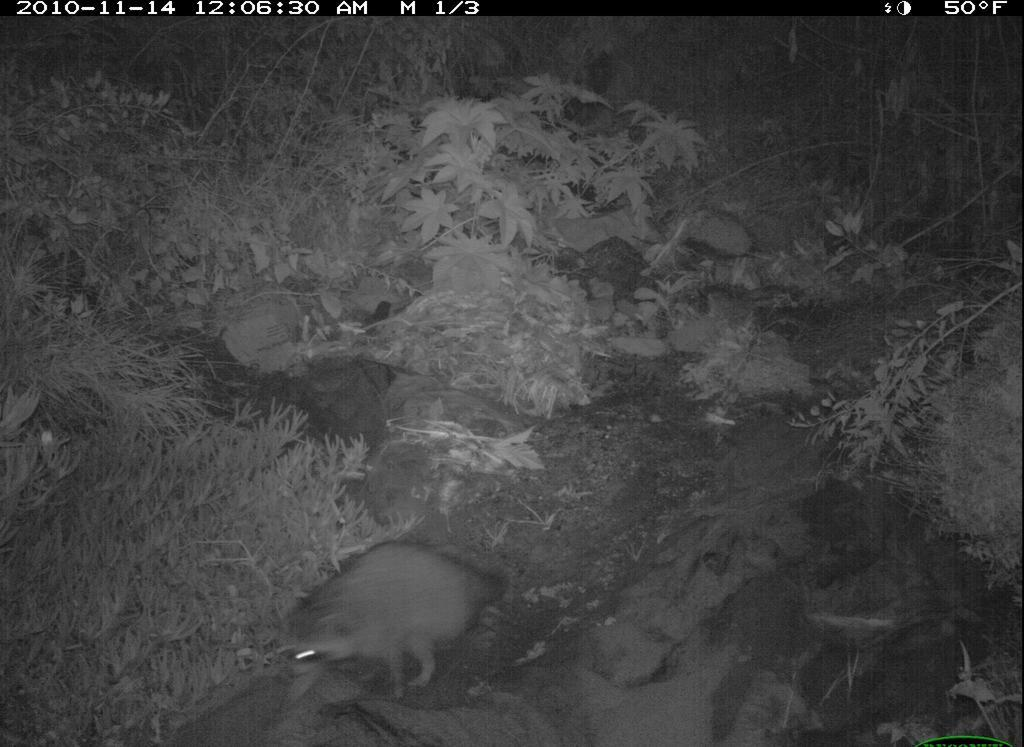raccoon: (274, 532, 527, 706)
